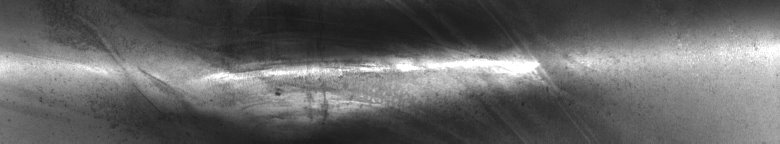ke: (88, 44, 572, 128)
